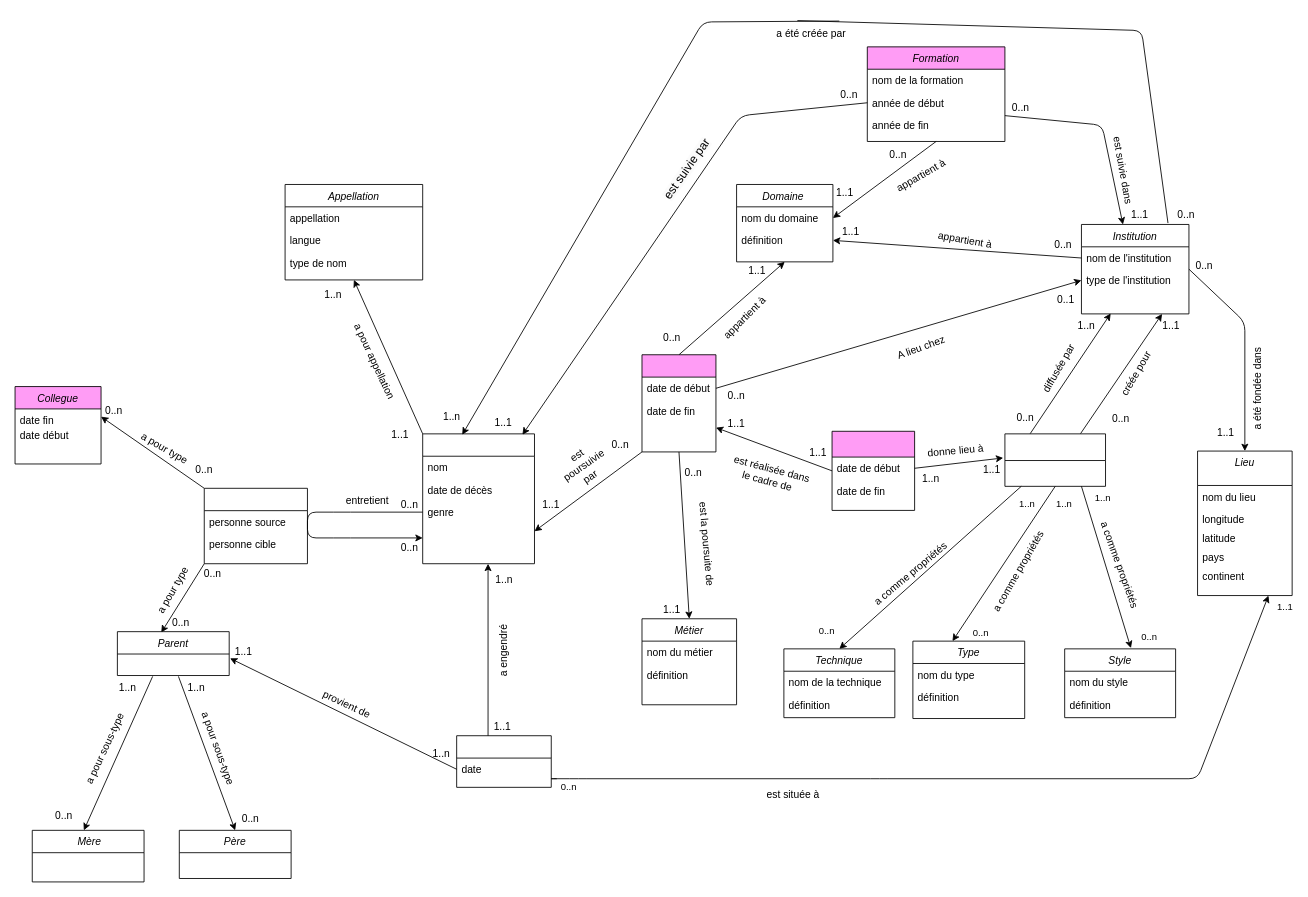
Some shapes in this 1308 by 897 pixel diagram are drawn without their labels. Each missing label, with the box of its shape:
Activité: (641, 354, 716, 452)
Artefact: (1004, 433, 1106, 486)
Création: (831, 430, 915, 510)
Naissance: (456, 735, 551, 787)
Personne: (422, 433, 534, 564)
Relation: (203, 487, 307, 564)
